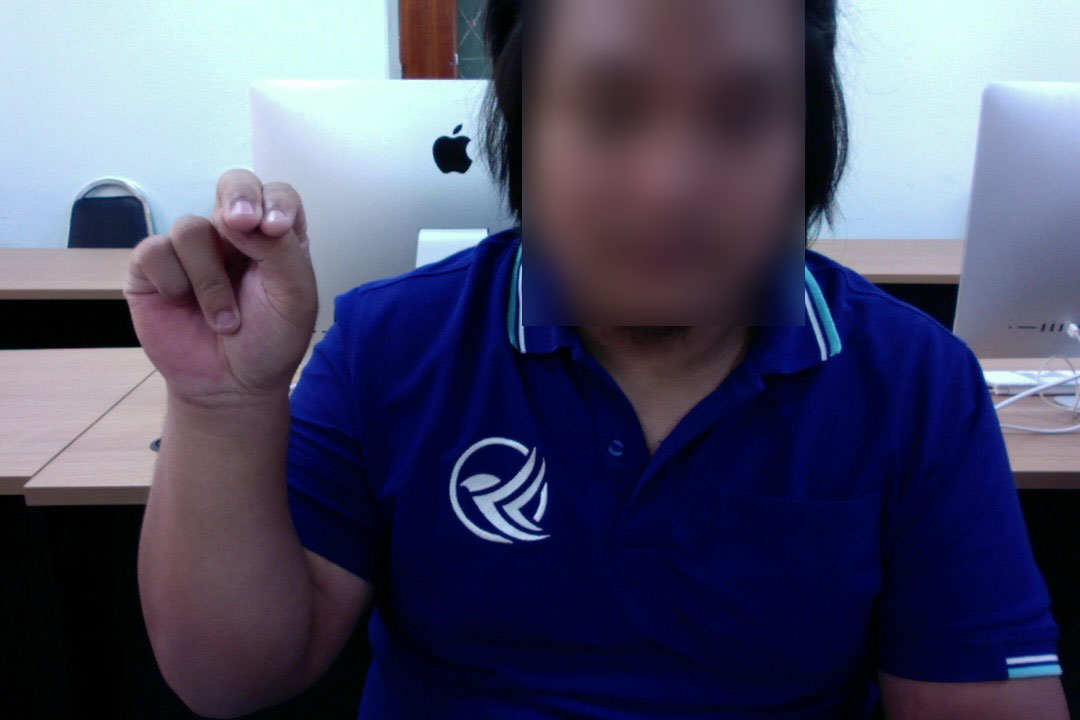nor: (116, 154, 325, 414)
